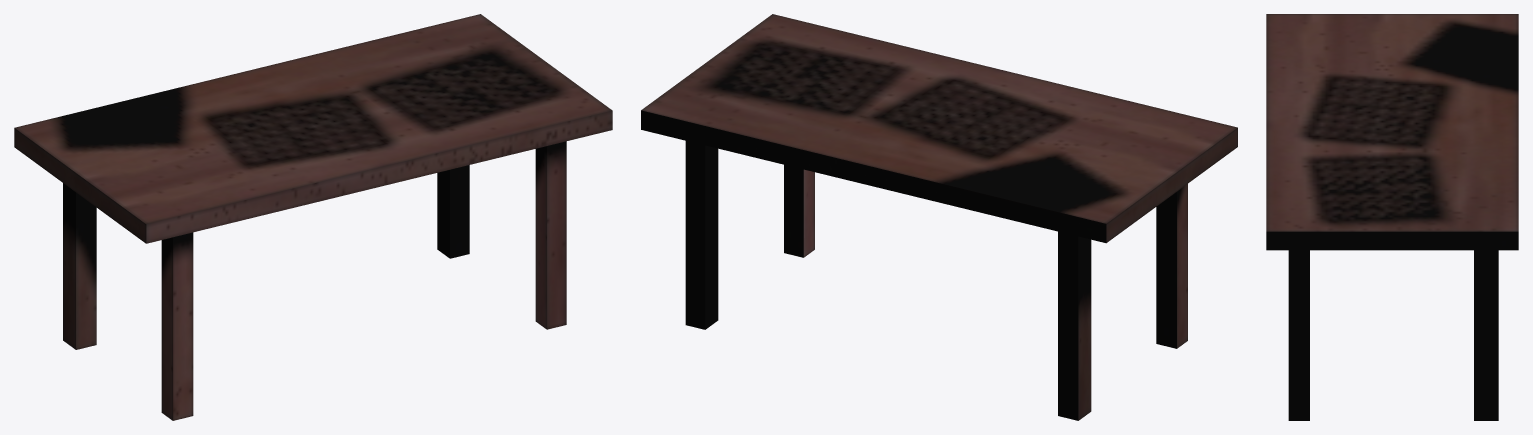
File: TableOnly.FBX
3 views of the same model, side by side, from view 1: azimuth 30°, elevation 25°; view 2: azimuth 150°, elevation 25°; view 3: azimuth 270°, elevation 25° (orthographic). The views are drawn at different scales.
Parts seen in each view (by area): view 1: tableLoPoly; view 2: tableLoPoly; view 3: tableLoPoly.
Part boxes in pixels (x1,y1,x2,y2): tableLoPoly: (14,14,612,420); tableLoPoly: (641,14,1237,420); tableLoPoly: (1266,14,1518,420).
Bounding box in the file's own units: 311 × 137 × 152.
